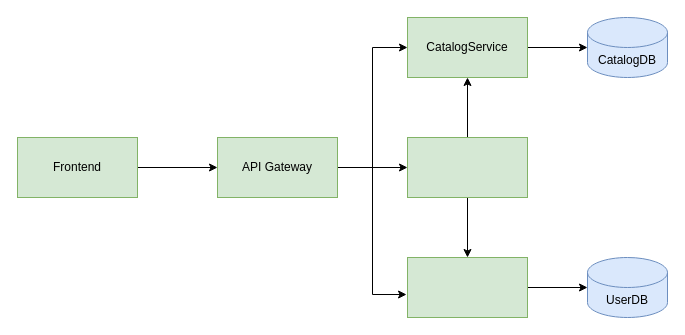
Some shapes in this 685 by 335 pixel diagram are drawn without their labels. Here are the shapes that lost their labels. From the top down, the centre of each, then its label:
At point (467, 167): "CartService".
At point (467, 287): "UserProfileService".
